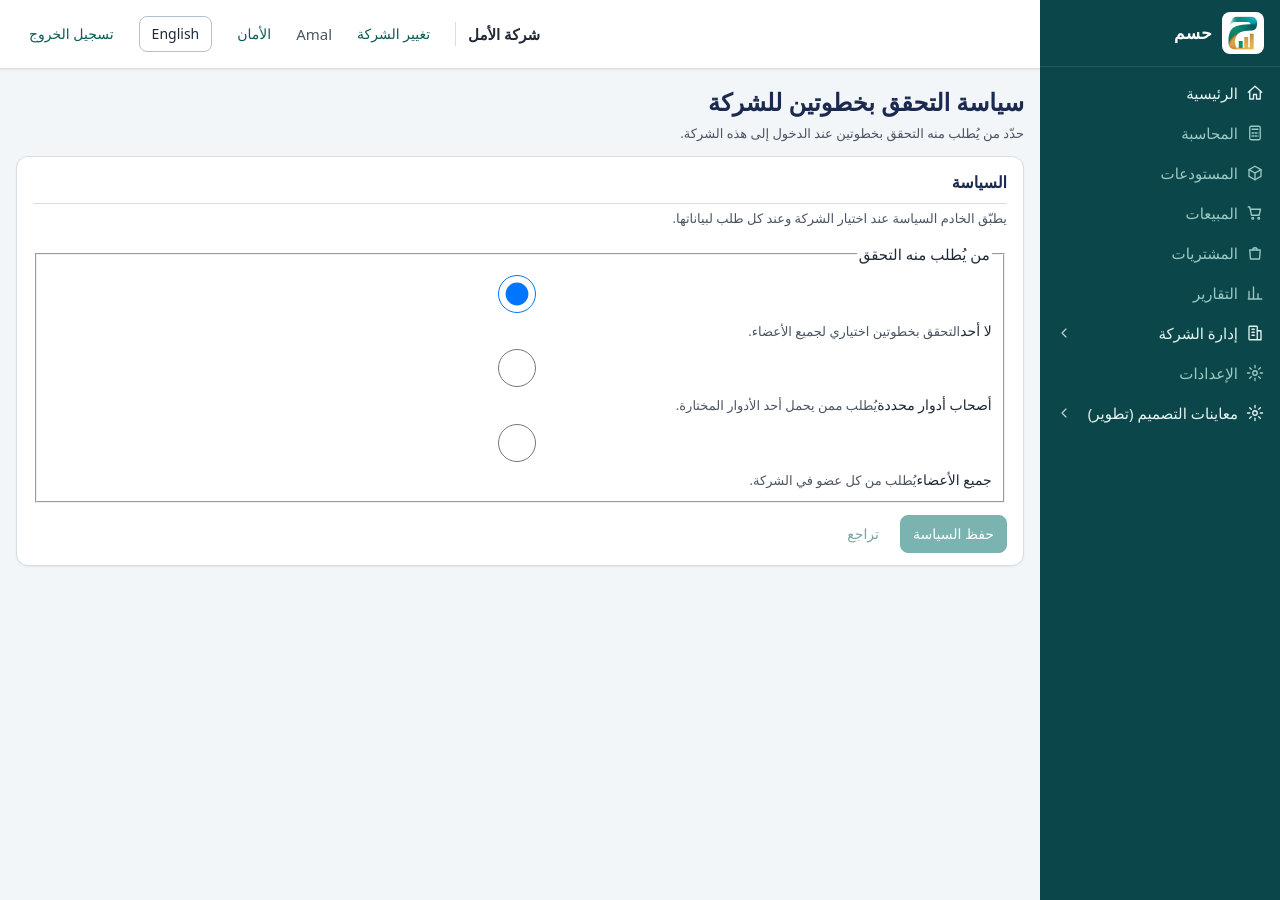
company MFA policy screen › 409 mfa_policy_requires_own_enrolment explains it and links to the security settings; the policy is not shown as saved
The image size is (1280, 900).
Expected: the element with test id "company-name" is shown, x1=455 y1=22 x2=540 y2=46
Expected: the heading "سياسة التحقق بخطوتين للشركة" is shown, x1=680 y1=85 x2=1024 y2=119
Click the 3rd radio button at (517, 443), box x1=45 y1=424 x2=989 y2=462
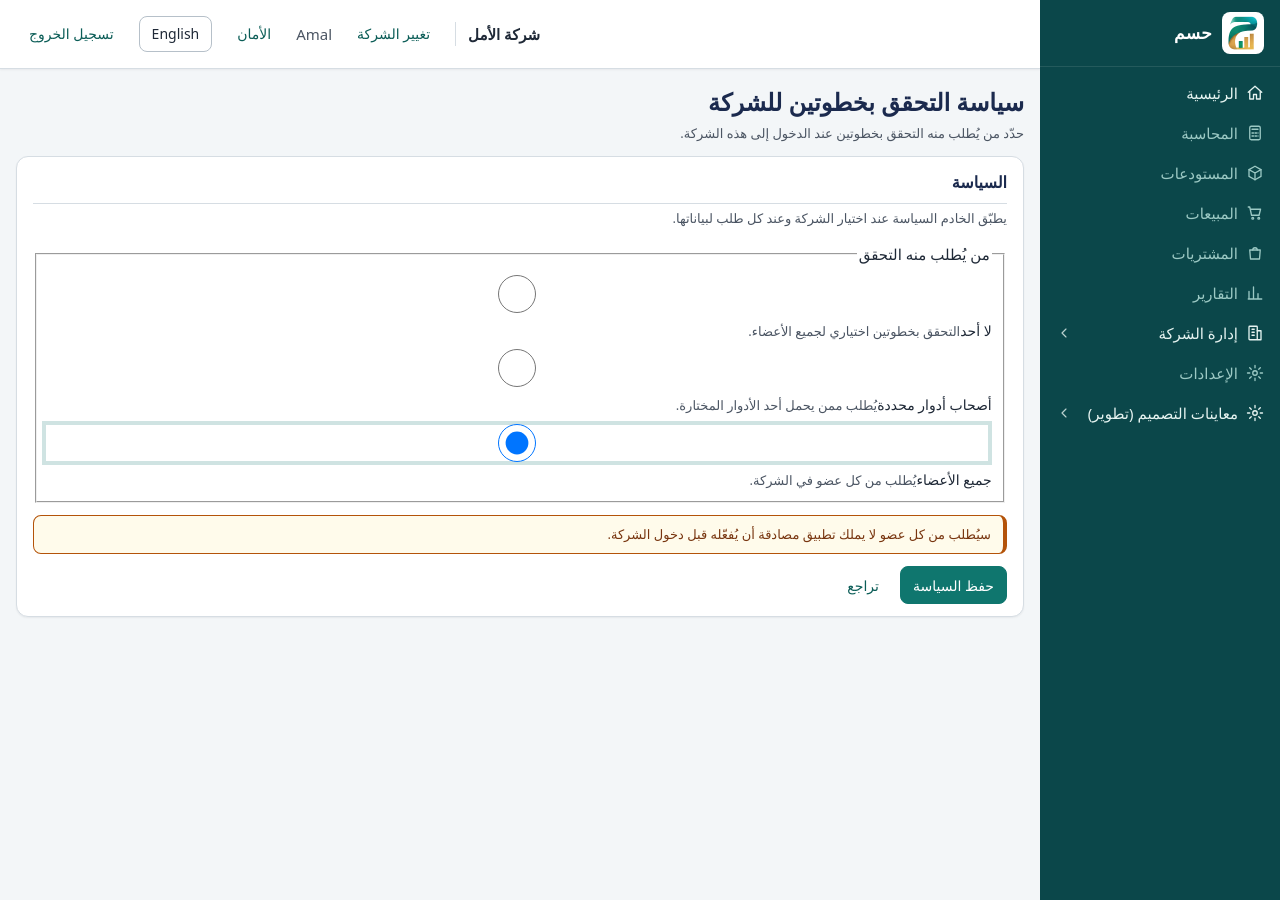
Click the button with test id "mfapolicy-save" at (954, 585), box x1=900 y1=566 x2=1007 y2=604
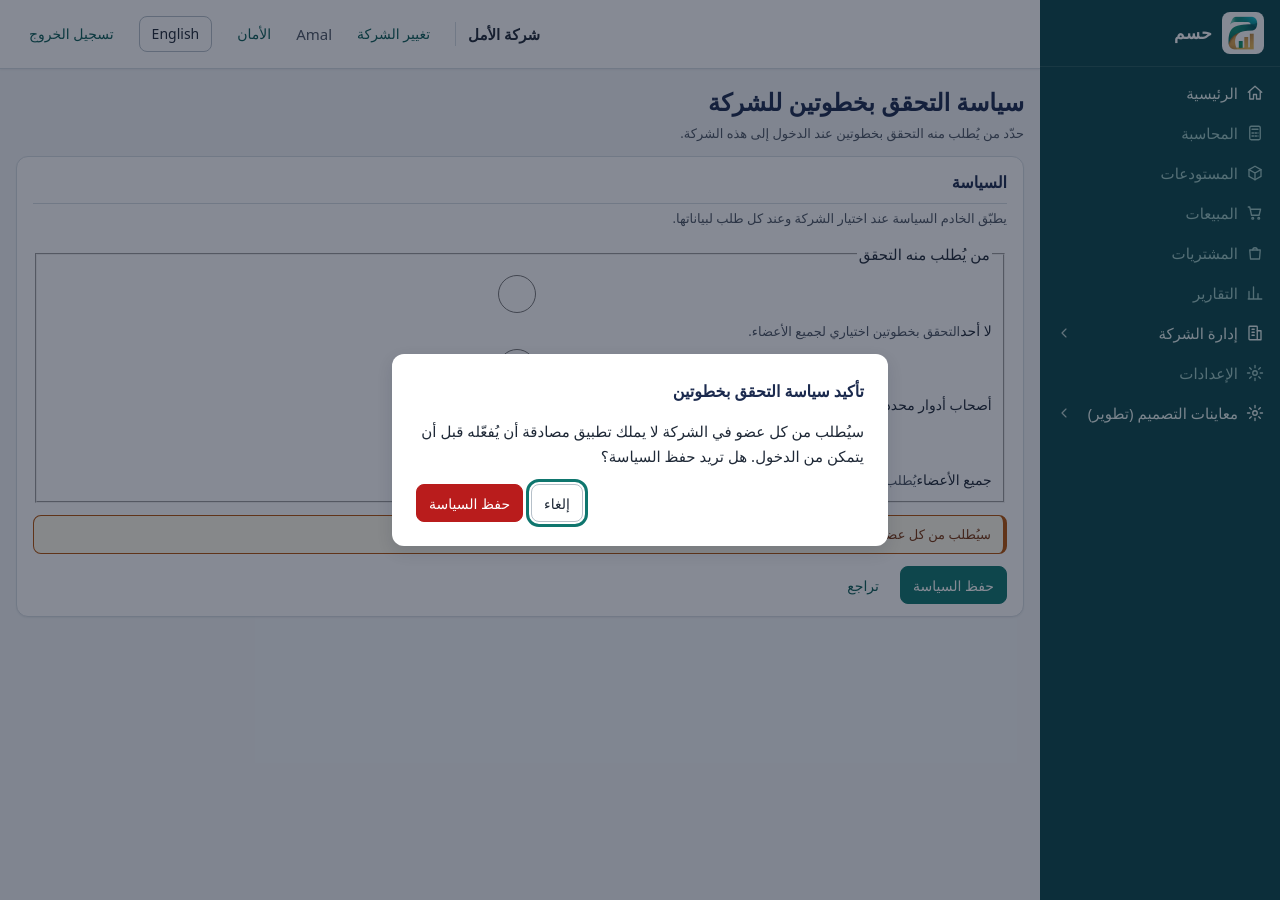
Click the button "حفظ السياسة" at (470, 503), box x1=416 y1=484 x2=523 y2=522
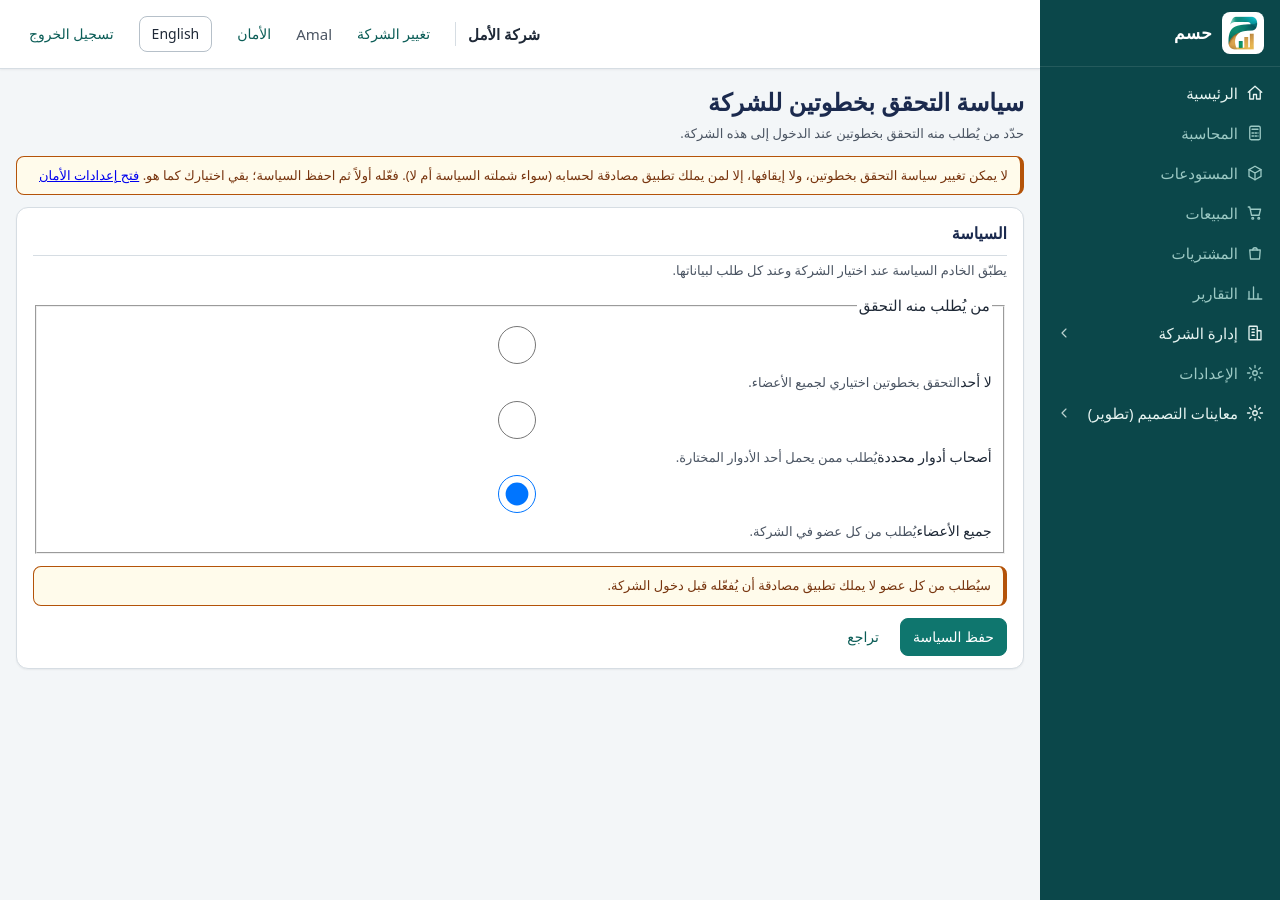
Expected: the button with test id "nav-security" is shown, x1=224 y1=16 x2=284 y2=52
Expected: the message with test id "mfapolicy-own-enrolment" shows "لا يمكن تغيير سياسة التحقق بخطوتين، ولا إيقافها، إلا لمن يملك تطبيق مصادقة لحسابه (سواء شملته السياسة أم لا). فعّله أولاً ثم احفظ السياسة؛ بقي اختيارك كما هو.", x1=143 y1=166 x2=1008 y2=184
